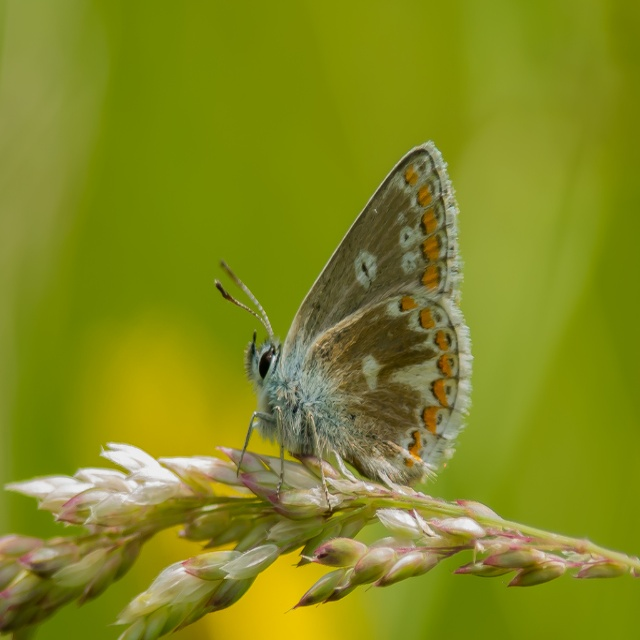Butterfly: (216, 138, 473, 509)
